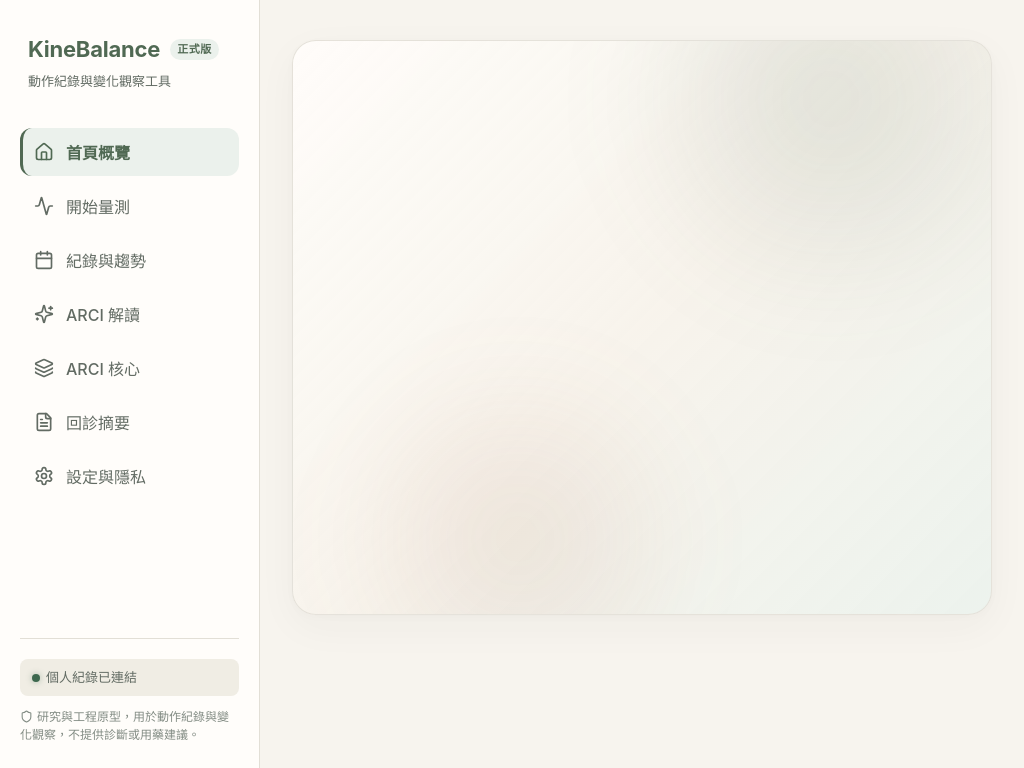
Test: KineBalanceApp Formal UI › navigates to records and displays list and trends
This screenshot has width=1024, height=768.
What coordinates should you click on to do the following:
click the button "紀錄與趨勢"
I would click on:
 (130, 260)
Its box is [20, 236, 239, 284].
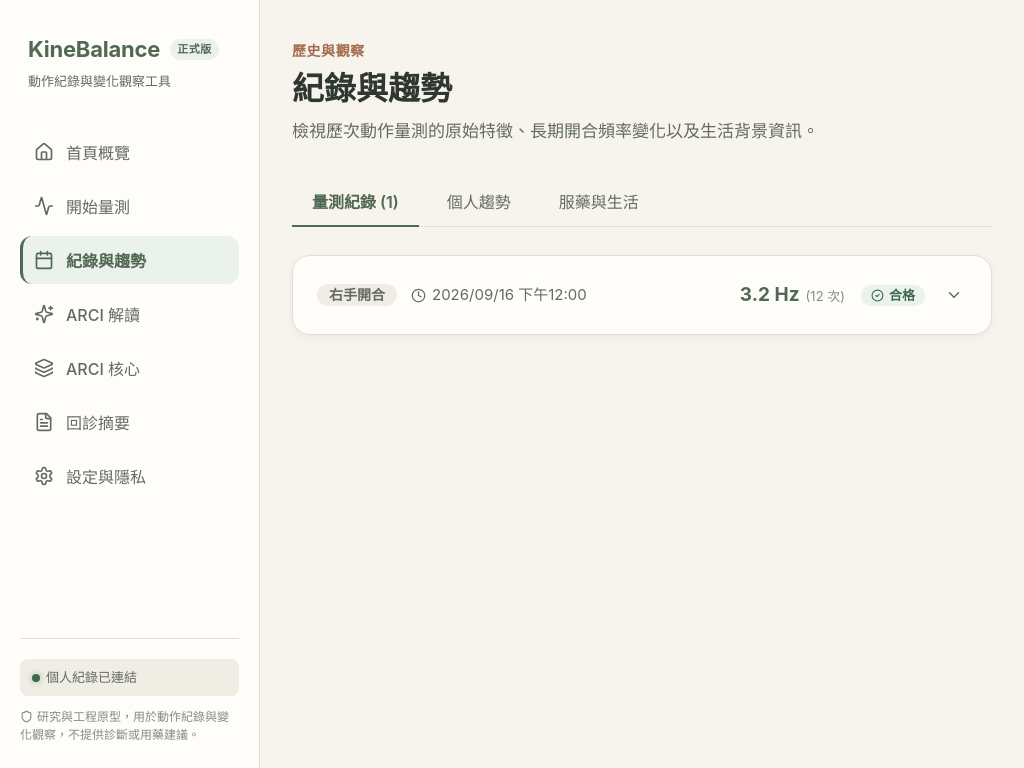
Check: the text "歷史與觀察" is shown, box [292, 42, 365, 59]
Check: the button "量測紀錄 (1)" is shown, box [292, 177, 419, 227]
Check: the button "個人趨勢" is shown, box [427, 177, 531, 227]
